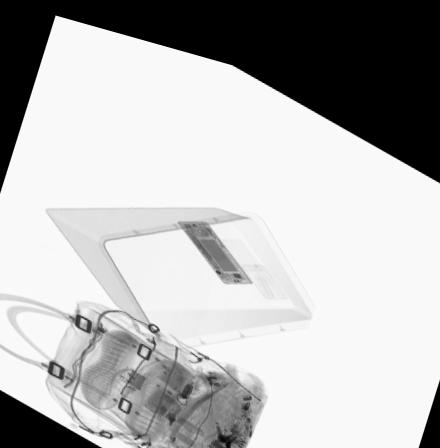Lighter: (207, 357, 230, 367)
